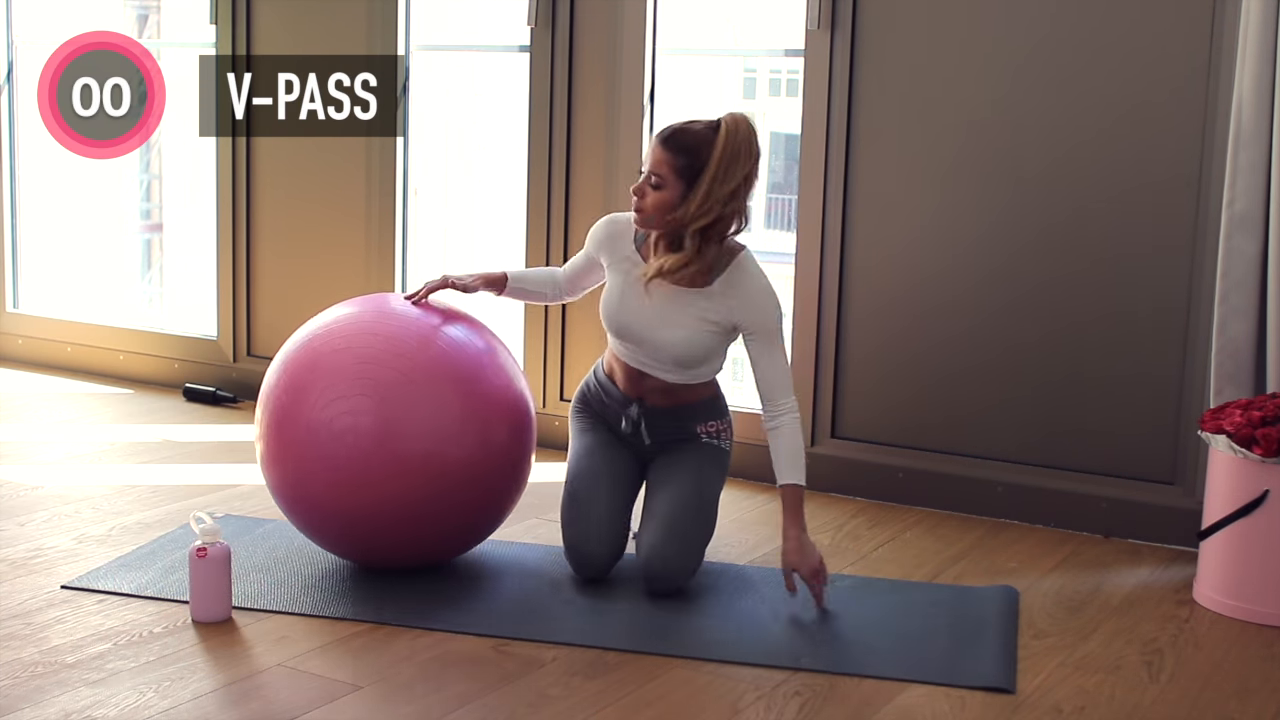yogaball: (250, 290, 543, 579)
